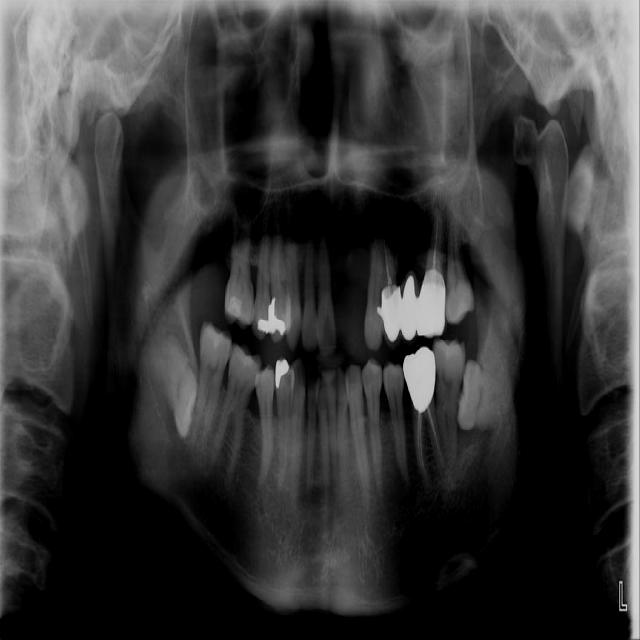Crown: (377, 270, 447, 348), (404, 346, 436, 413)
Filling: (269, 298, 286, 336), (275, 358, 290, 392), (258, 304, 272, 333), (226, 295, 242, 320)
Missing teeth: (327, 274, 371, 349)
Root Canal Treatment: (431, 412, 445, 473), (416, 411, 425, 479), (432, 223, 439, 266), (386, 242, 388, 282)
impacted tooth: (156, 337, 197, 430), (459, 361, 513, 428)
